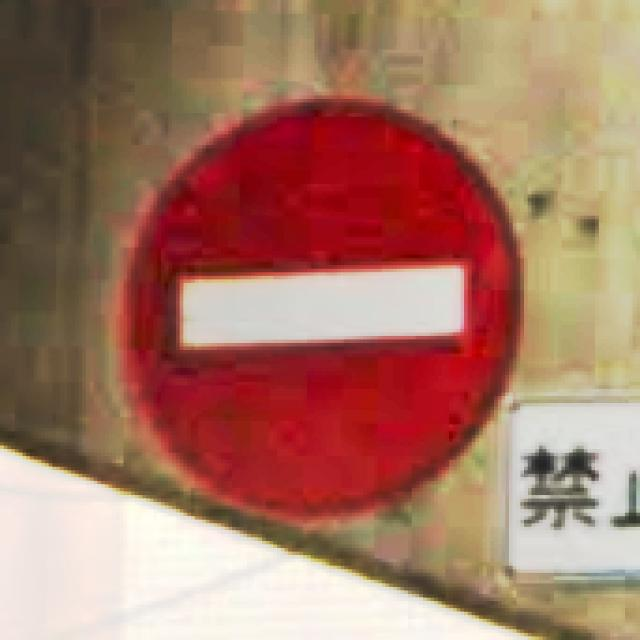noentry: (116, 93, 527, 525)
